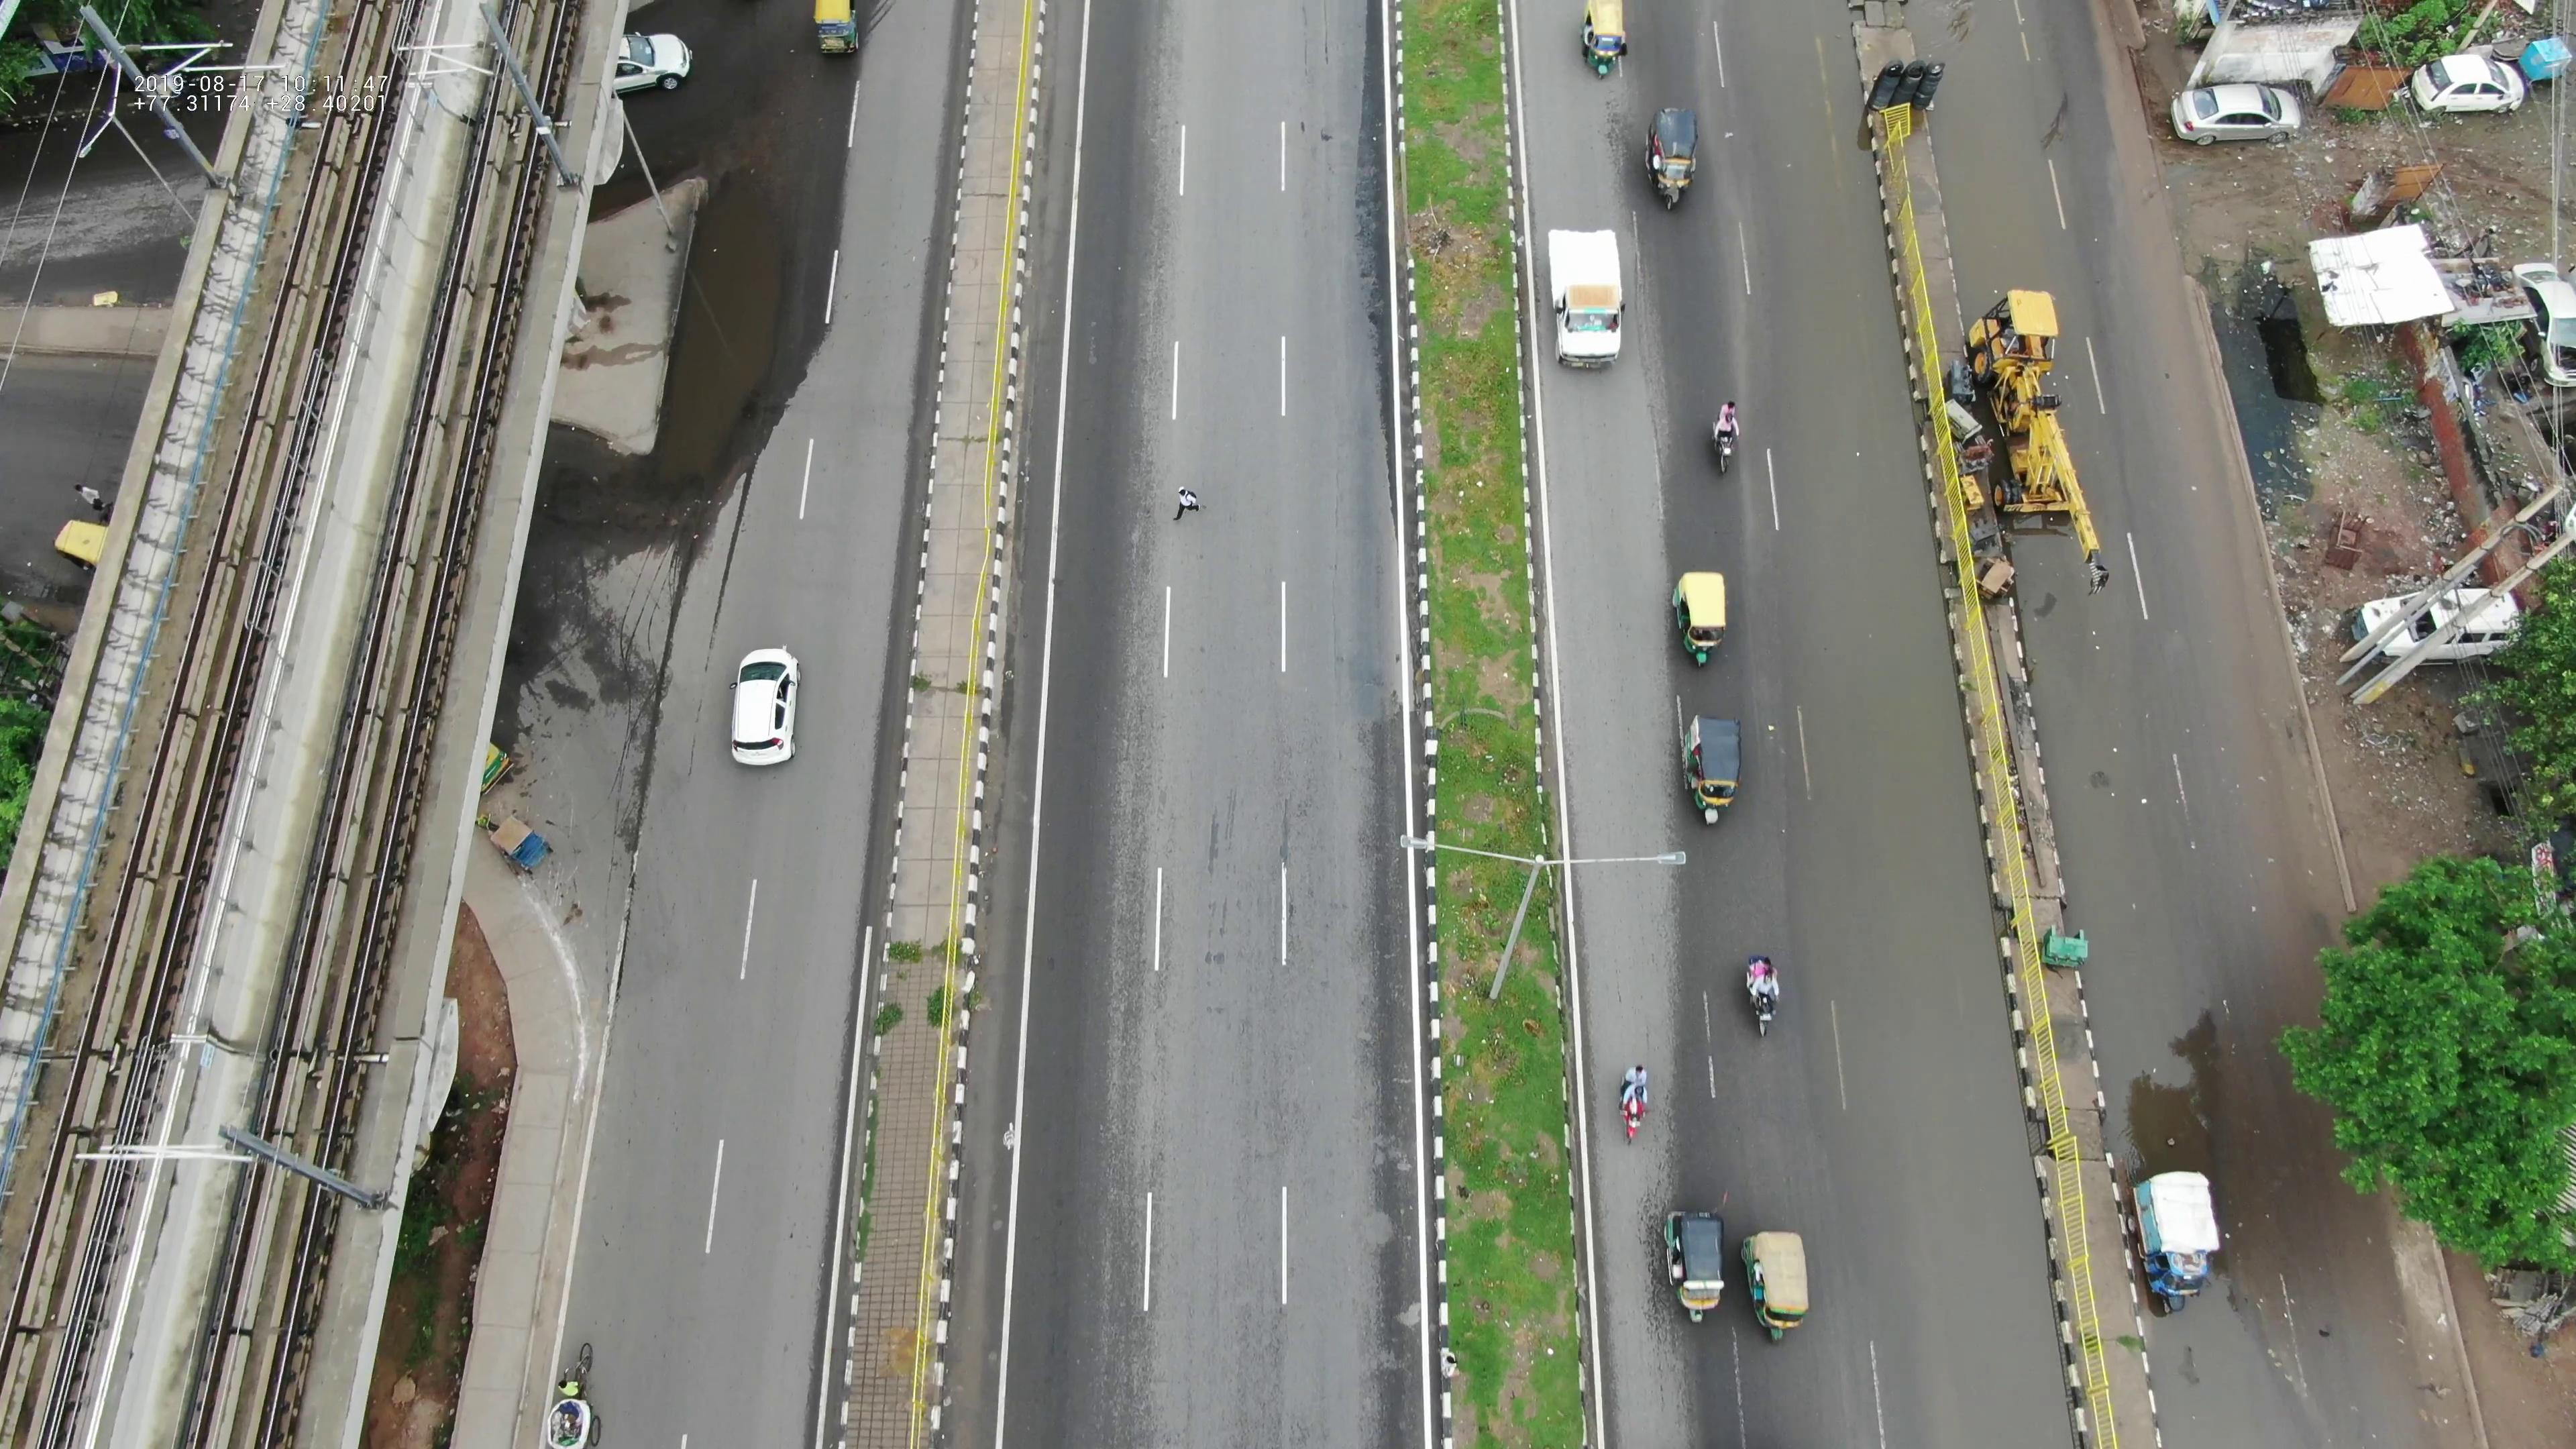Waterlogging: (2040, 600, 2235, 1157), (1796, 888, 2051, 1313), (1780, 467, 1973, 812), (1721, 27, 1898, 380), (640, 180, 800, 487)
